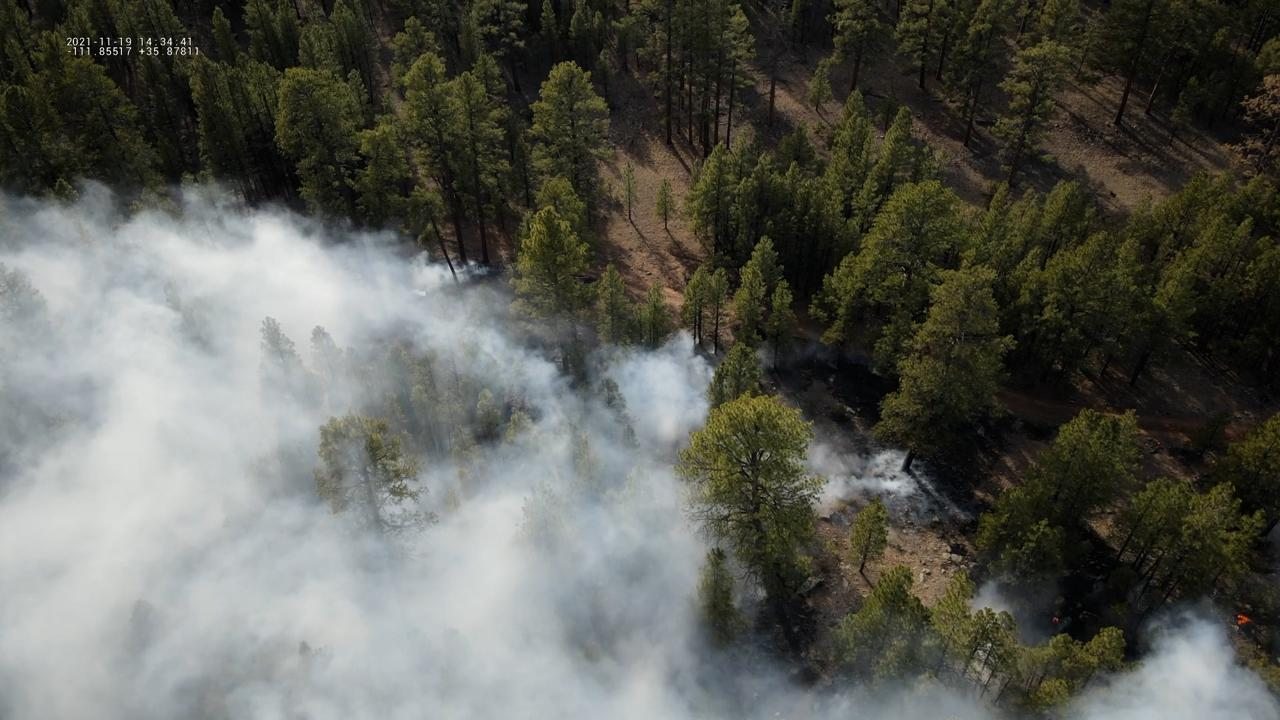fire: (1235, 614, 1252, 626), (1051, 616, 1060, 625)
smoke: (0, 171, 1280, 720), (796, 443, 918, 515), (964, 570, 1065, 648), (754, 337, 838, 372)
